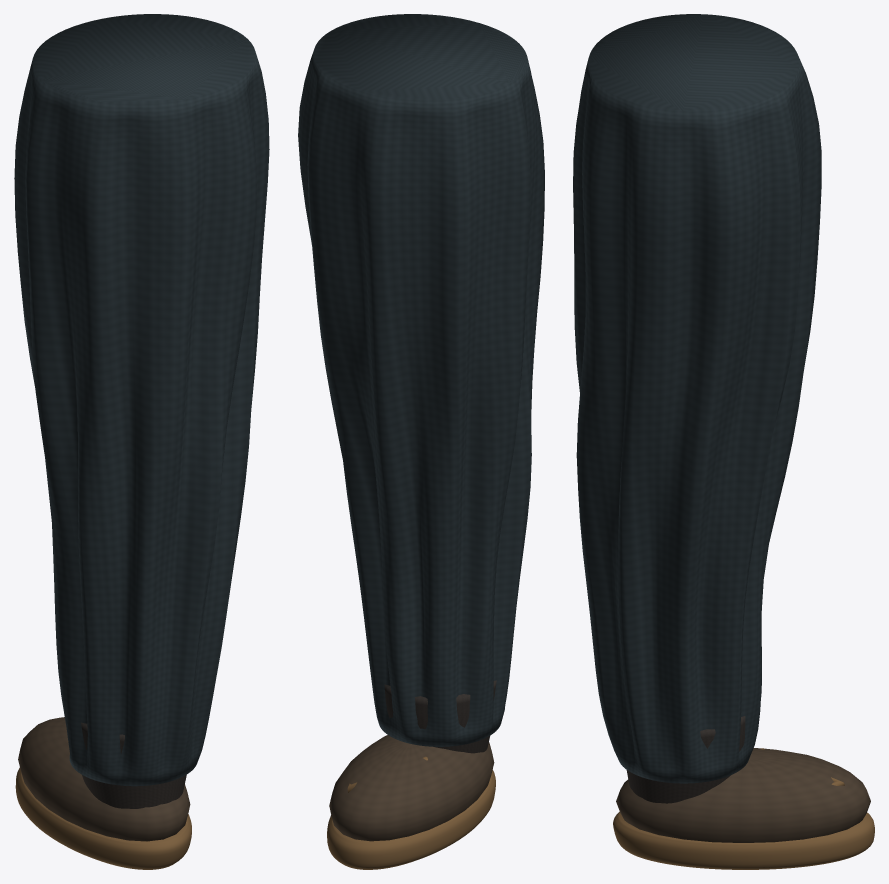
File: PilgrimLeftLeg.glb
3 views of the same model, side by side, from view 1: azimuth 30°, elevation 25°; view 2: azimuth 150°, elevation 25°; view 3: azimuth 270°, elevation 25° (orthographic). The views are drawn at different scales.
Visible parts, largest first — view 1: PilgrimLeftLeg; view 2: PilgrimLeftLeg; view 3: PilgrimLeftLeg.
Boxes of the visible parts, box(x1,y1,x2,y2) form: PilgrimLeftLeg: box(14, 14, 269, 869); PilgrimLeftLeg: box(298, 14, 544, 869); PilgrimLeftLeg: box(573, 14, 874, 869).
Size of the model in its own units: 0.2663 by 0.876 by 0.303.
Materials: 4 (3 with a texture image).
